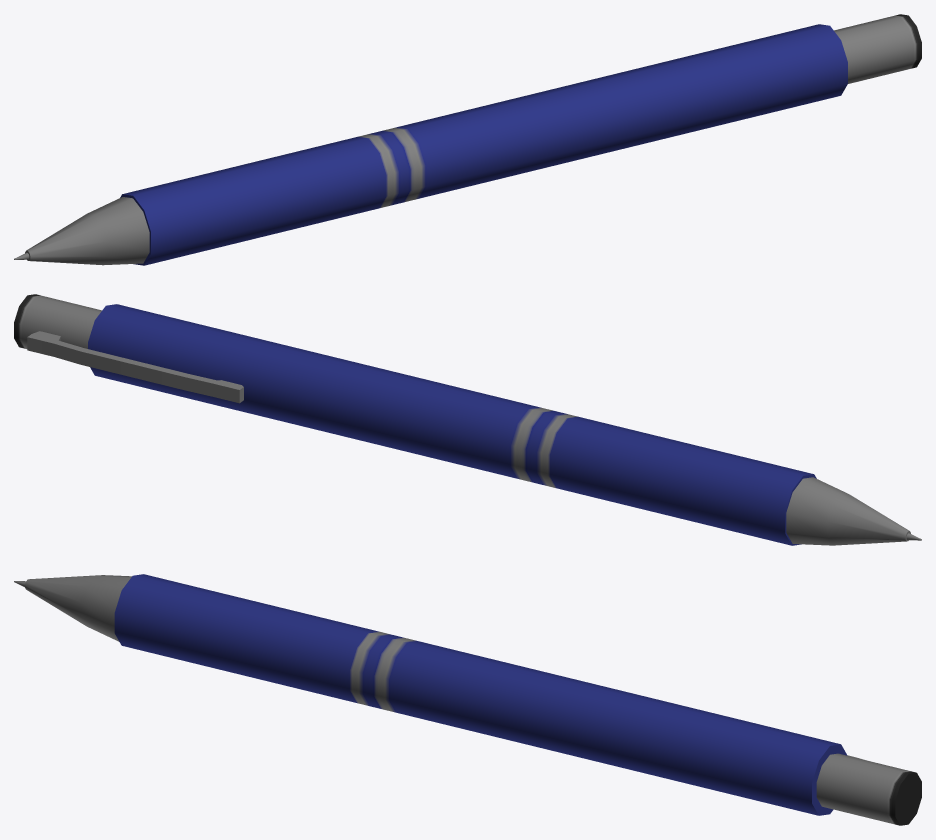
Rendered from pen blue.FBX.
3 views of the same model, one above another, from view 1: azimuth 30°, elevation 25°; view 2: azimuth 150°, elevation 25°; view 3: azimuth 330°, elevation 25° (orthographic).
Parts seen in each view (by area): view 1: pen blue; view 2: pen blue; view 3: pen blue.
Boxes of the visible parts, bbox=[...] form: pen blue: bbox=[14, 14, 921, 265]; pen blue: bbox=[14, 294, 921, 545]; pen blue: bbox=[14, 574, 921, 825].
Size of the model in its own units: 7.34 by 0.5998 by 0.5365.
Materials: 1 (1 with a texture image).
